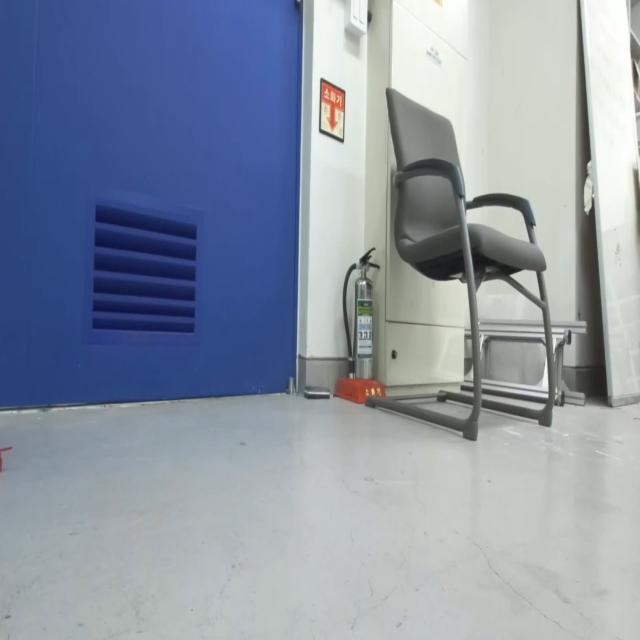crazyflie: (0, 440, 13, 473)
